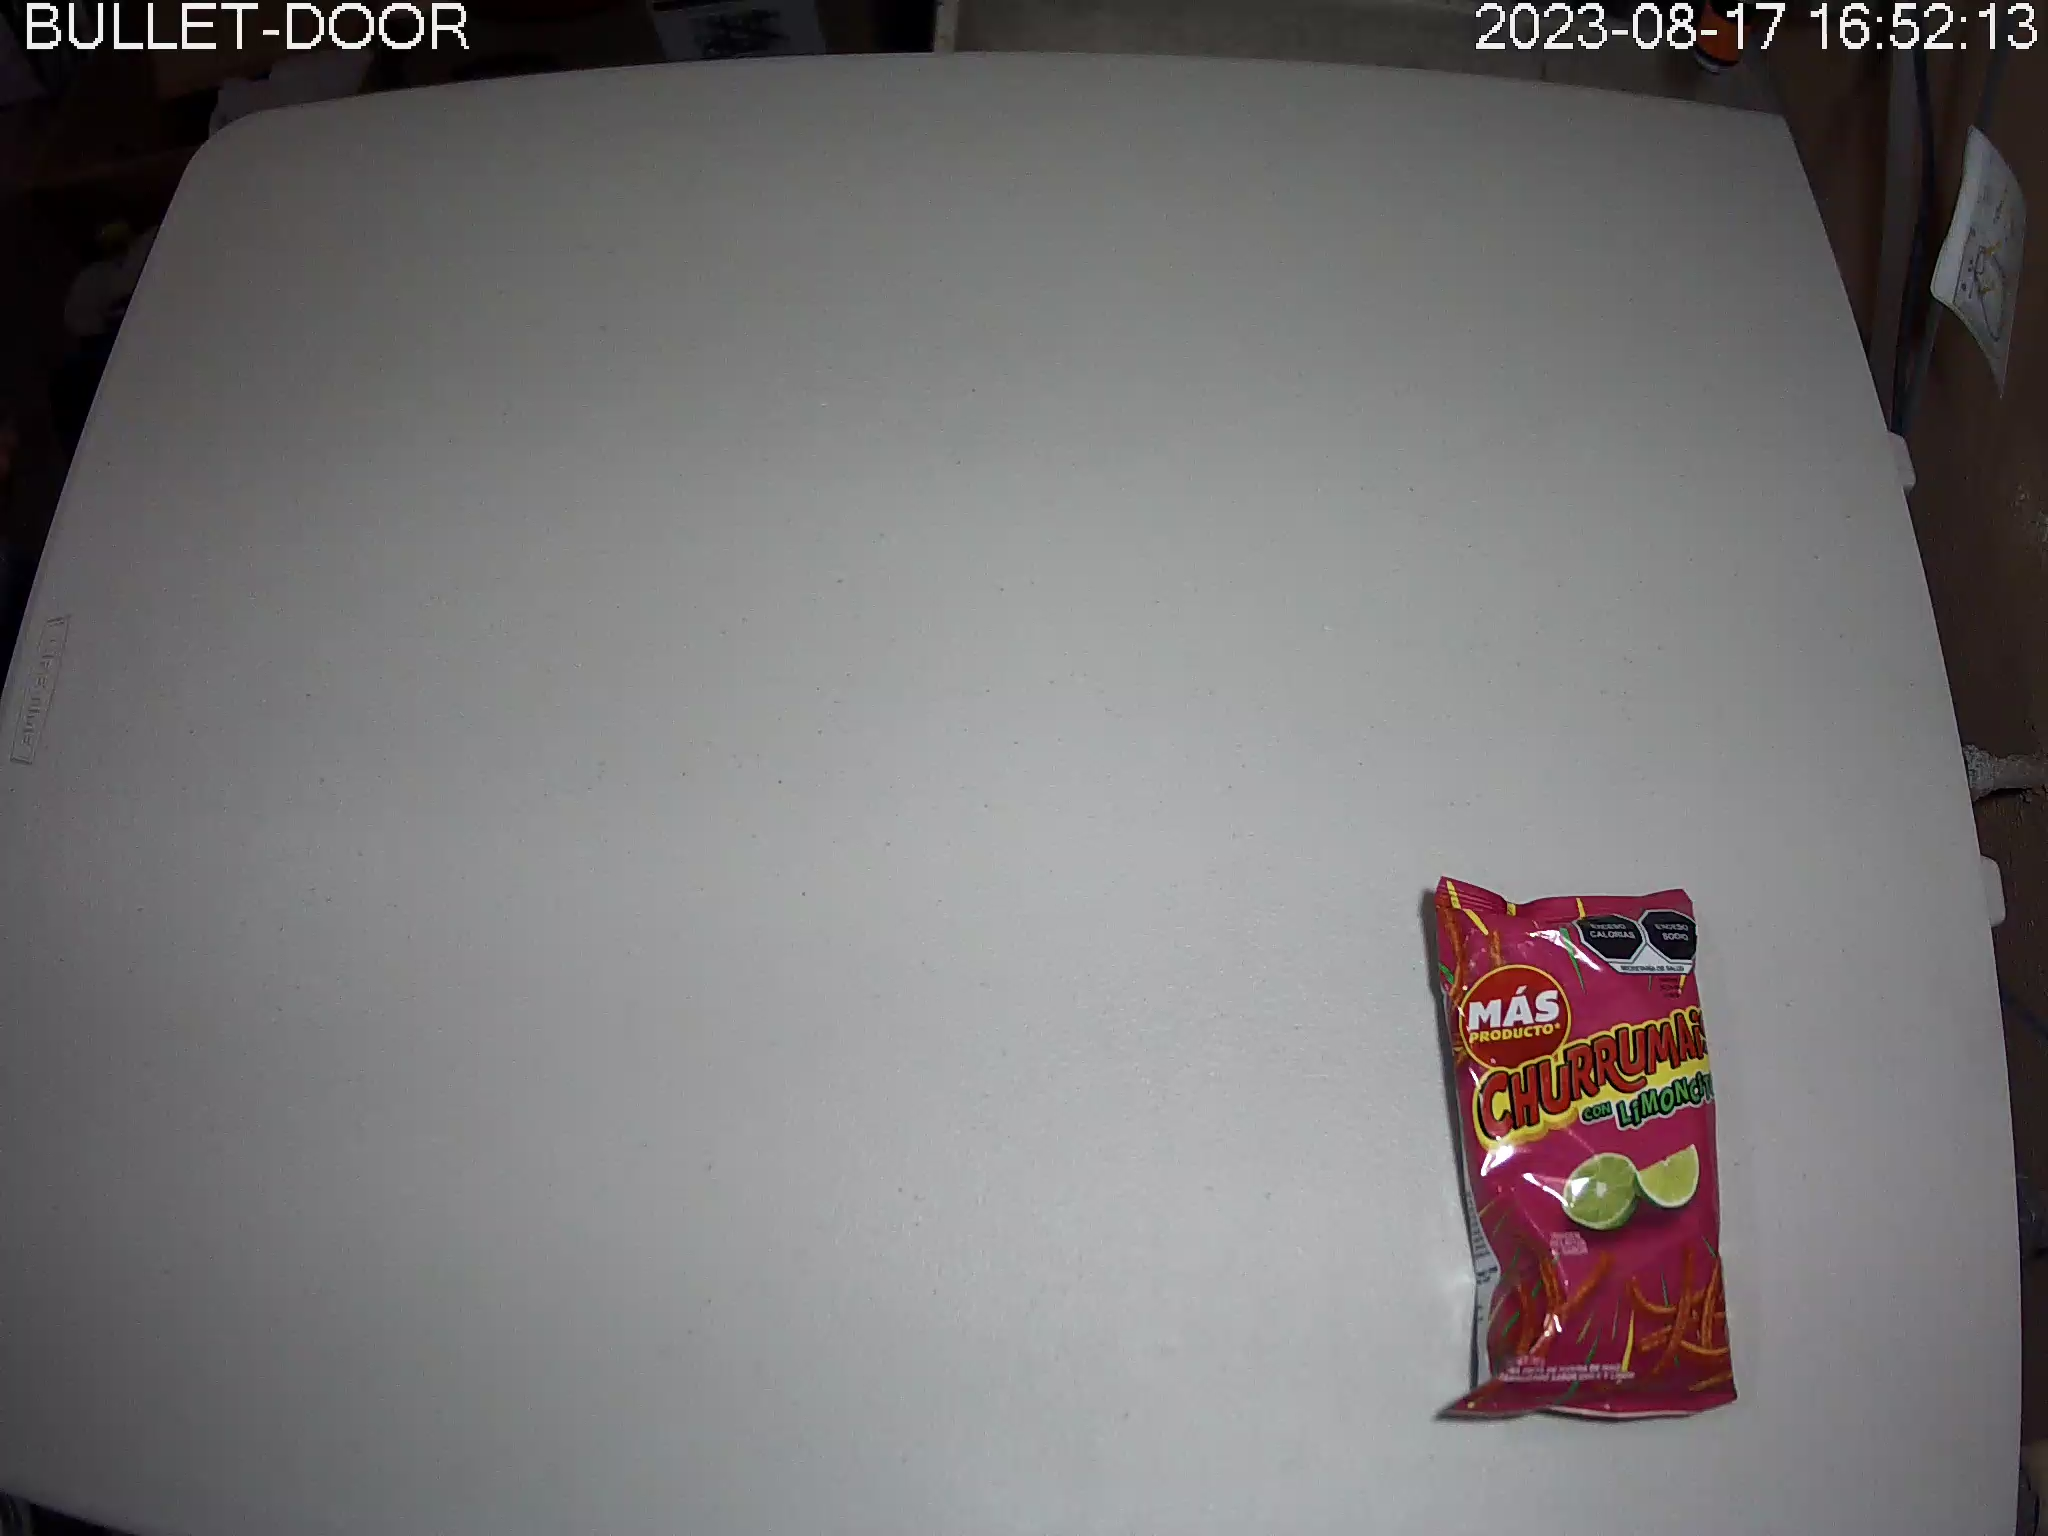Churrumais_70_F: (1429, 873, 1742, 1423)
